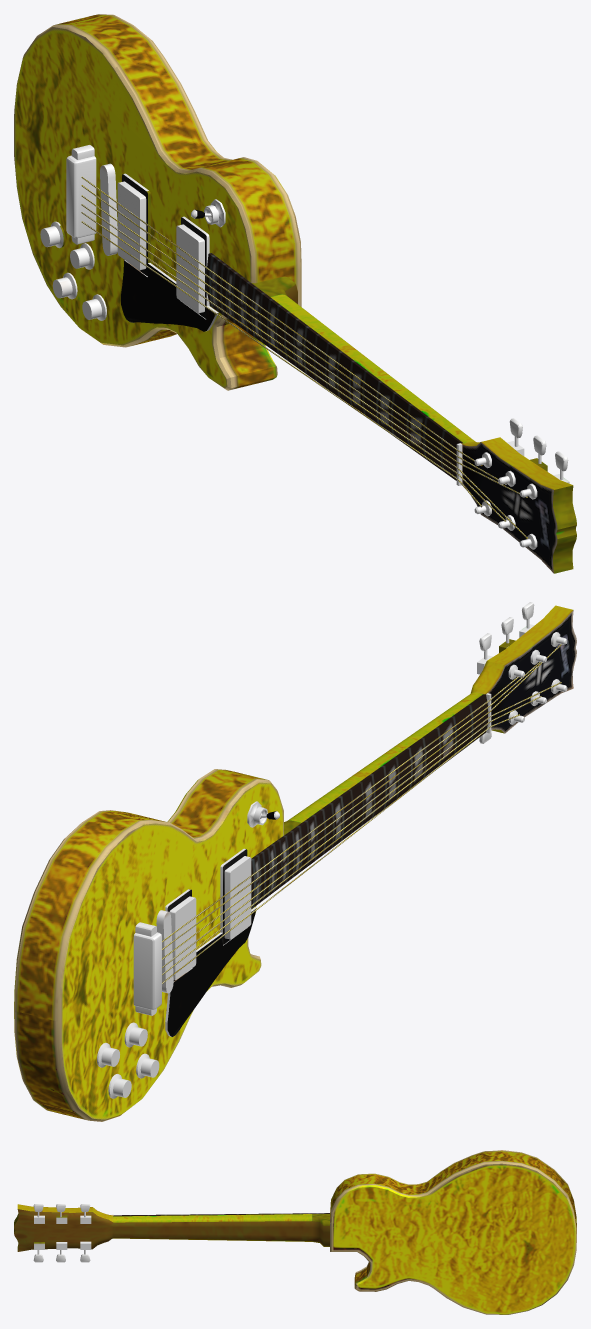
The picture shows the model from 3 angles, top to bottom: view 1: azimuth 30°, elevation 25°; view 2: azimuth 150°, elevation 25°; view 3: azimuth 270°, elevation 25°; orthographic projection. The views are drawn at different scales.
Visible parts, largest first — view 1: Line002; view 2: Line002; view 3: Line002.
Part boxes in pixels (<box>): Line002: <box>14,14,576,573</box>; Line002: <box>14,602,576,1121</box>; Line002: <box>14,1150,576,1314</box>.
Size of the model in its own units: 30.99 by 113 by 377.
1 material, 1 textured.
